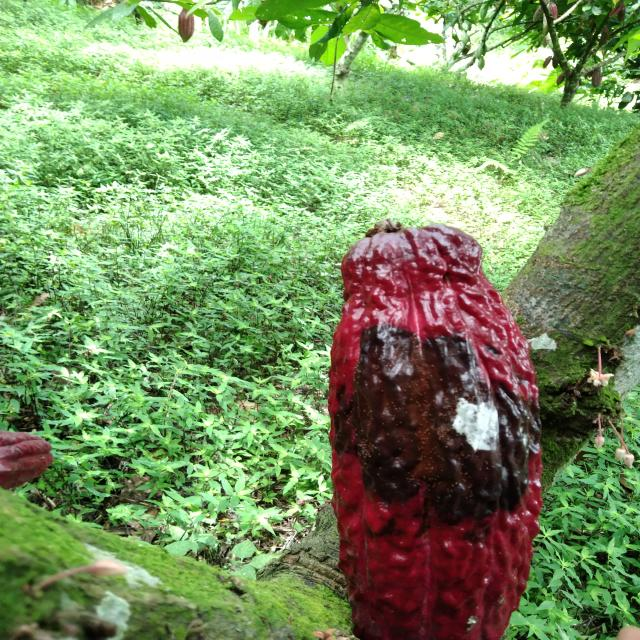Monilia: (335, 213, 539, 640)
Sana: (0, 434, 59, 484)
